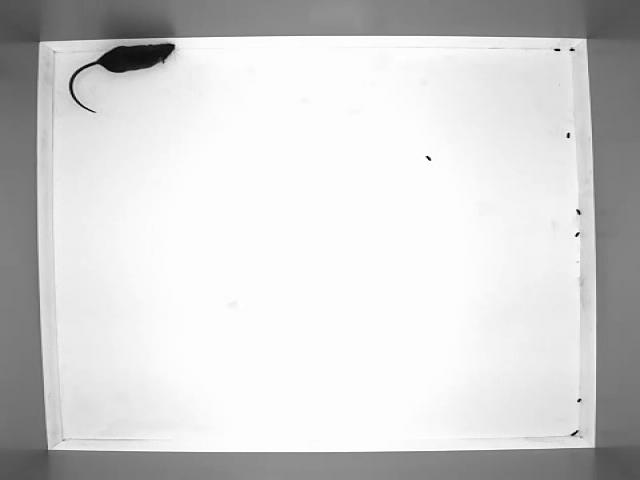Tikus: (70, 43, 176, 113)
